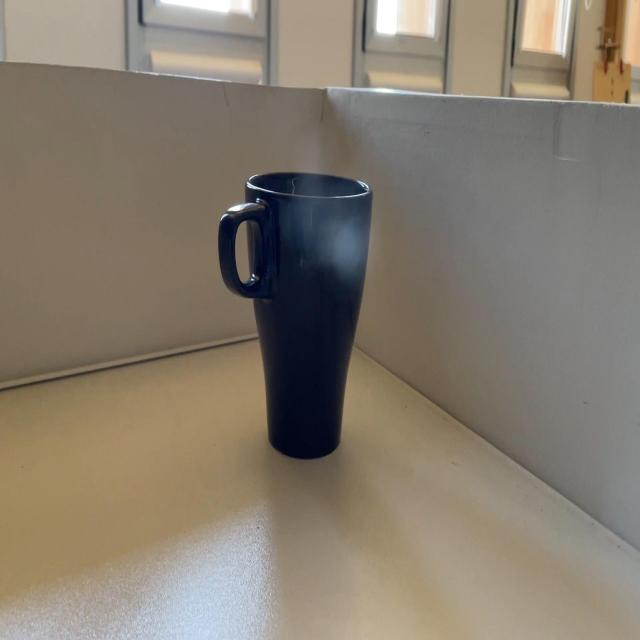cup: (218, 166, 375, 460)
